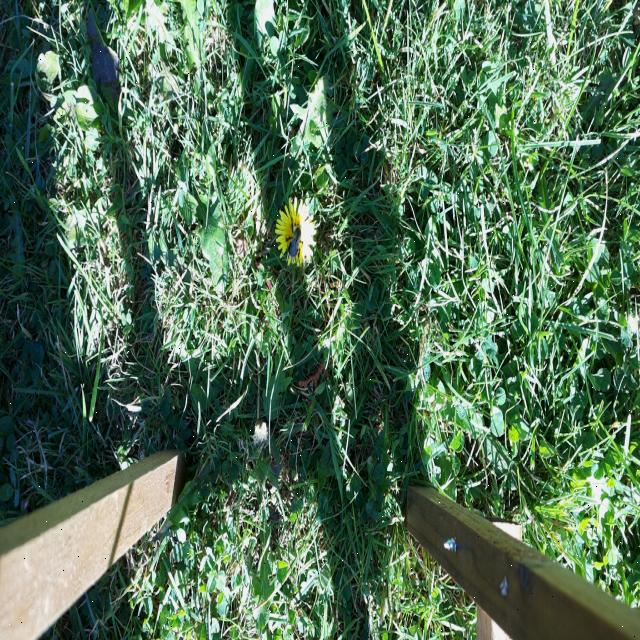dandelion: (0, 0, 640, 295)
